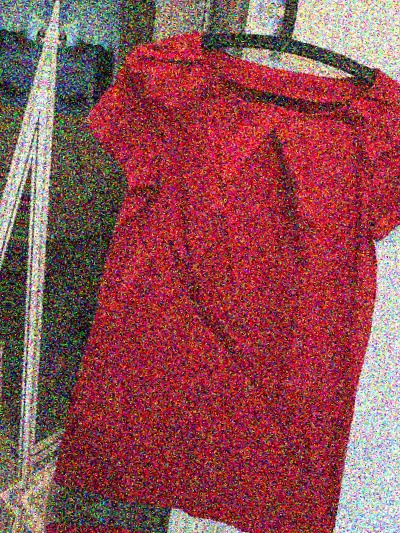Dress: (15, 4, 400, 533), (0, 501, 392, 533), (0, 0, 20, 482), (102, 0, 400, 20), (398, 66, 400, 533)
